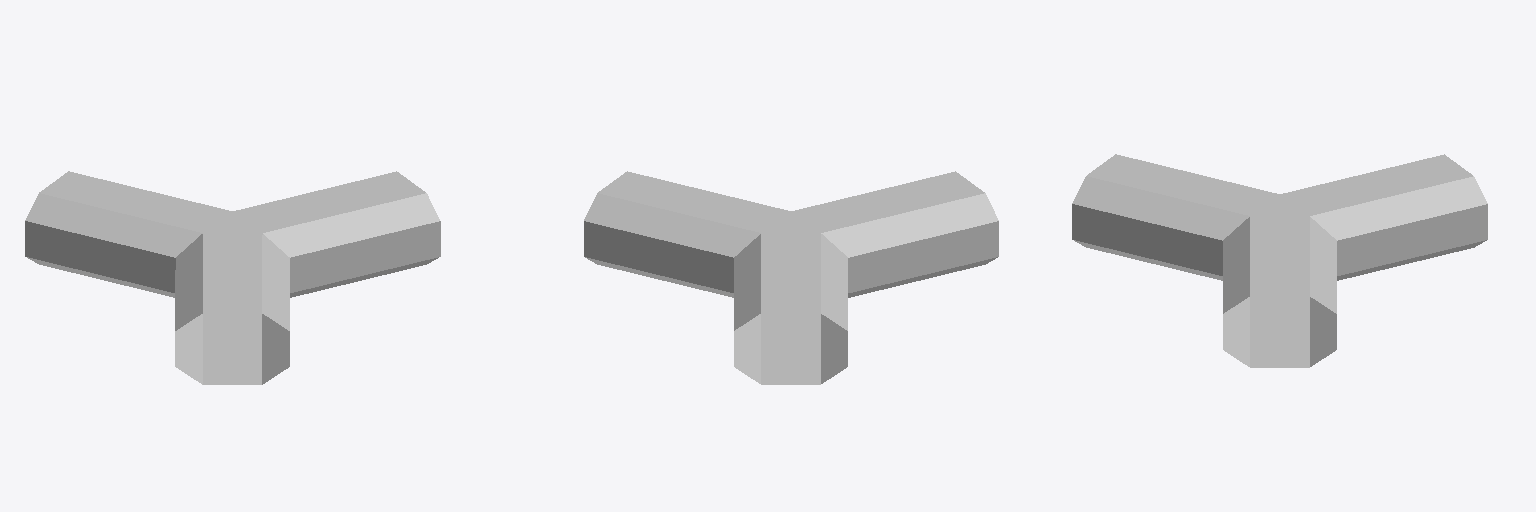
Rendered from Block33.obj.
3 renders of one model, left to right at view 1: azimuth 30°, elevation 25°; view 2: azimuth 150°, elevation 25°; view 3: azimuth 270°, elevation 25°, orthographic.
Visible parts, largest first — view 1: Block33.001_Cylinder.031; view 2: Block33.001_Cylinder.031; view 3: Block33.001_Cylinder.031.
Boxes of the visible parts, <box> form: Block33.001_Cylinder.031: <box>25,171,440,384</box>; Block33.001_Cylinder.031: <box>584,171,998,384</box>; Block33.001_Cylinder.031: <box>1072,154,1487,367</box>.
Size of the model in its own units: 1.51 by 0.3302 by 1.74.